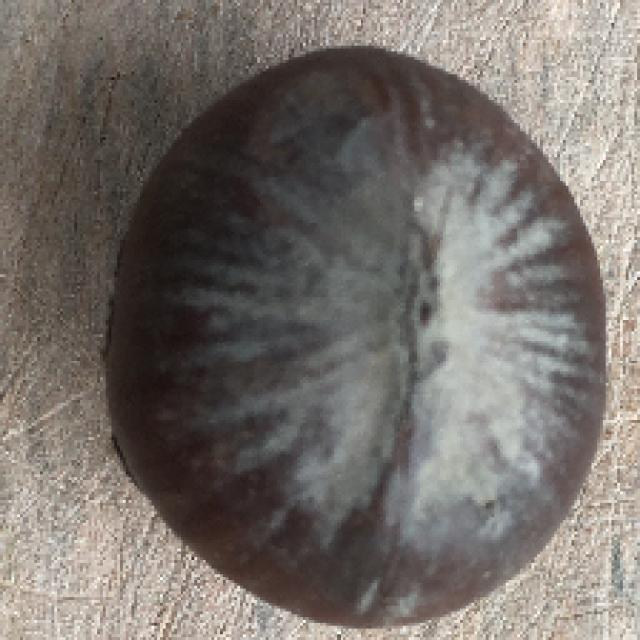damagedHazelnut: (108, 44, 609, 626)
